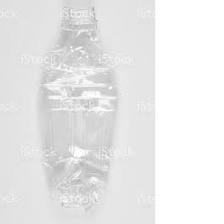bottle: (35, 2, 125, 216)
